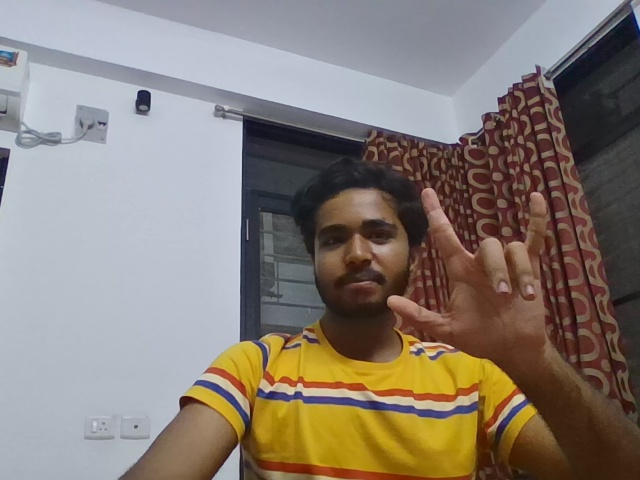I Love You: (379, 181, 572, 366)
